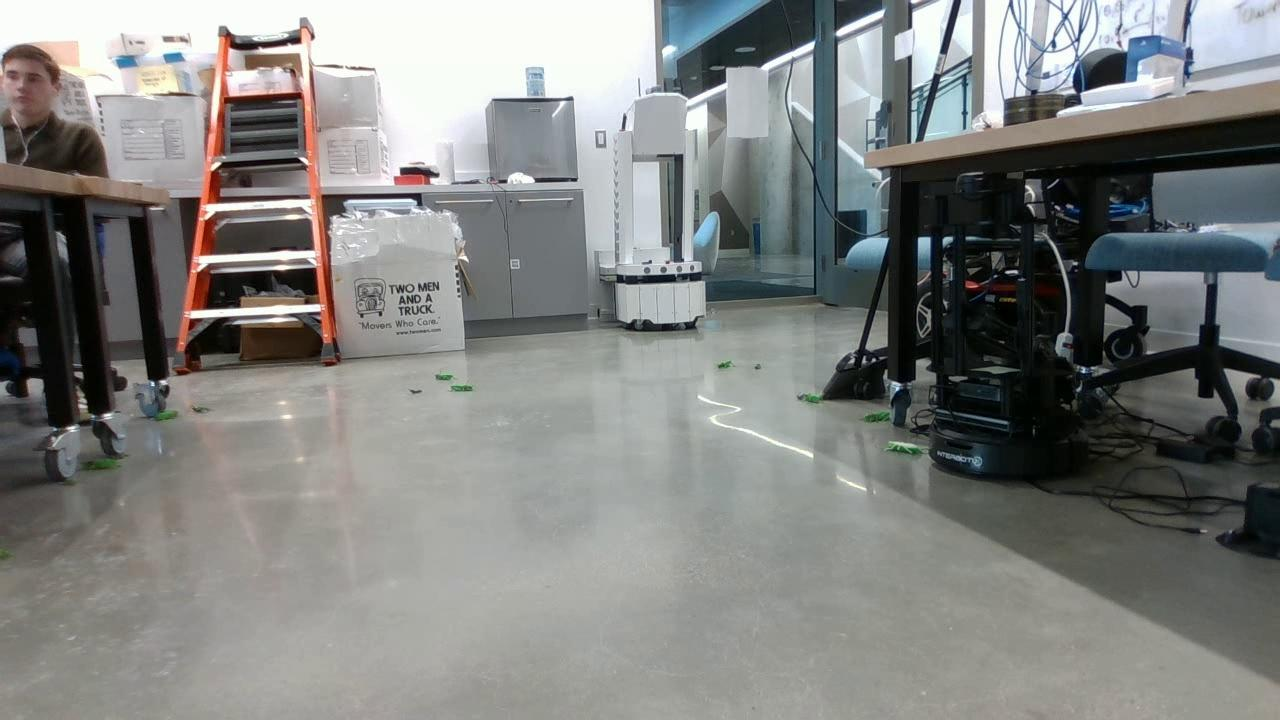grasshopper: (884, 440, 931, 461), (79, 459, 125, 470), (862, 411, 892, 424), (448, 382, 479, 393), (151, 408, 179, 420), (434, 371, 453, 384), (806, 393, 828, 404), (716, 360, 737, 370)
